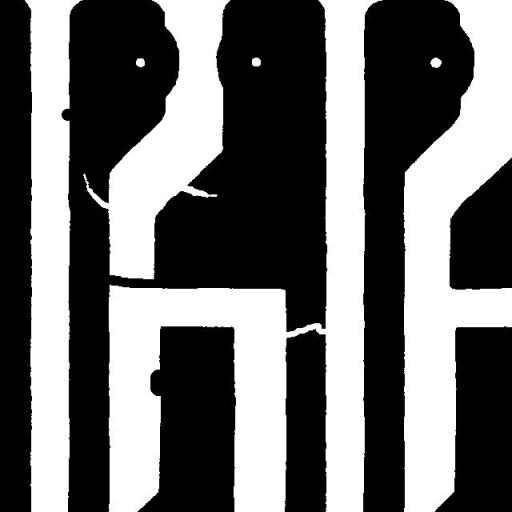mousebite: (76, 166, 118, 216), (170, 178, 224, 204)
open: (274, 315, 335, 346)
short: (93, 266, 168, 296)
spur: (142, 362, 174, 403), (54, 101, 80, 128)
